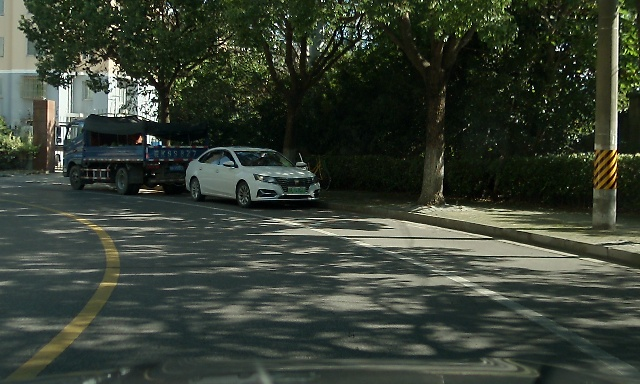bicycle: (294, 154, 331, 191)
car: (185, 146, 321, 208)
truck: (56, 114, 210, 196)
